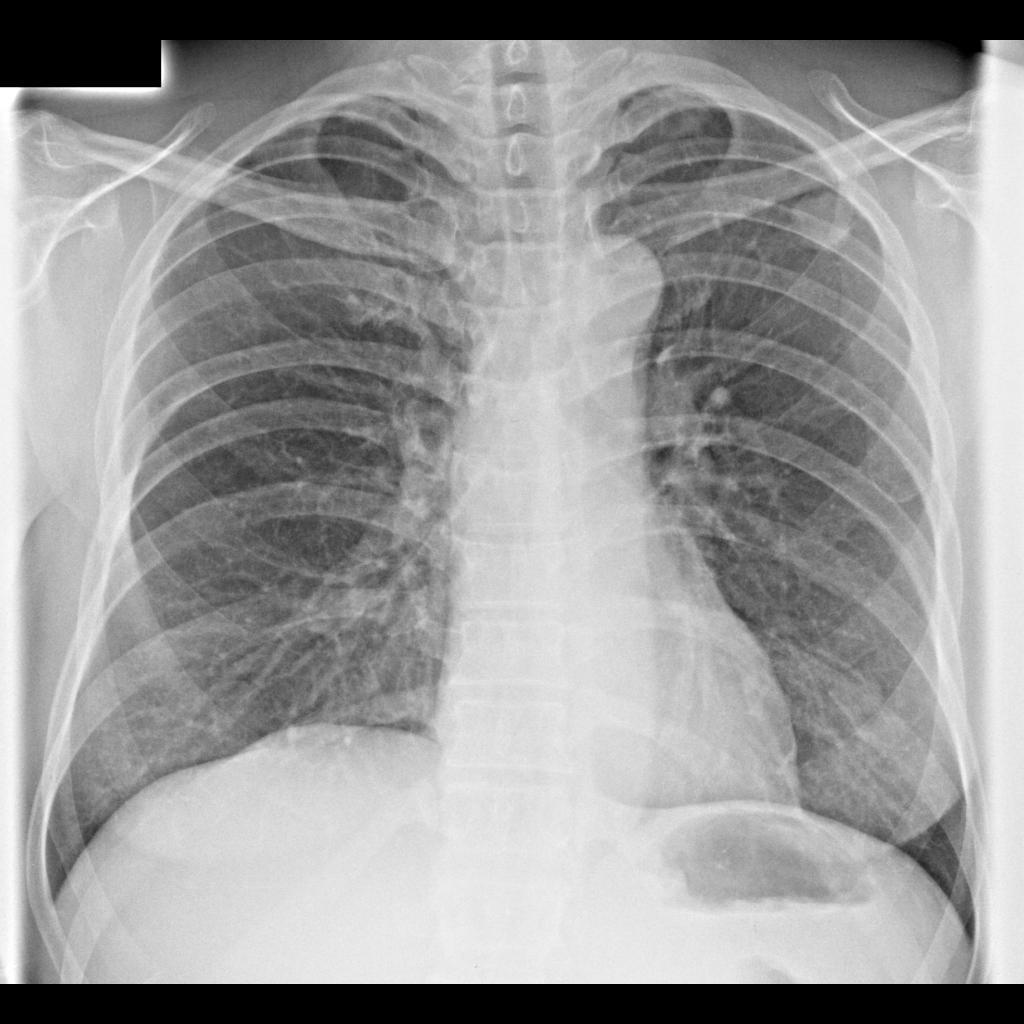Nodule: (792, 189, 854, 251)
